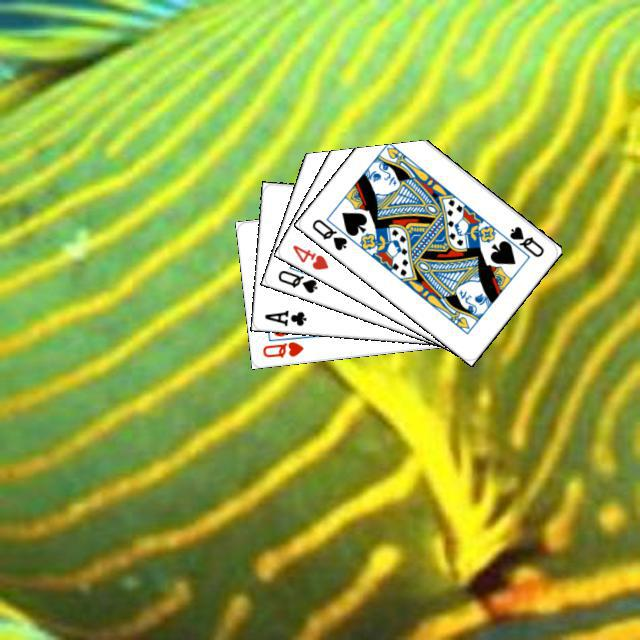4h: (288, 239, 330, 272)
Ac: (260, 305, 308, 328)
Qh: (258, 336, 305, 360)
Qs: (307, 214, 349, 252), (505, 221, 546, 259), (273, 265, 319, 295)
